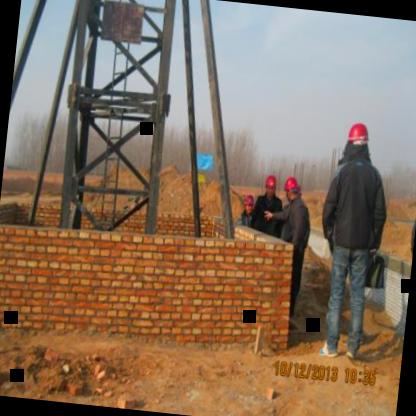helmet: (342, 118, 376, 166), (282, 173, 304, 202), (262, 170, 280, 199), (242, 190, 258, 216)
